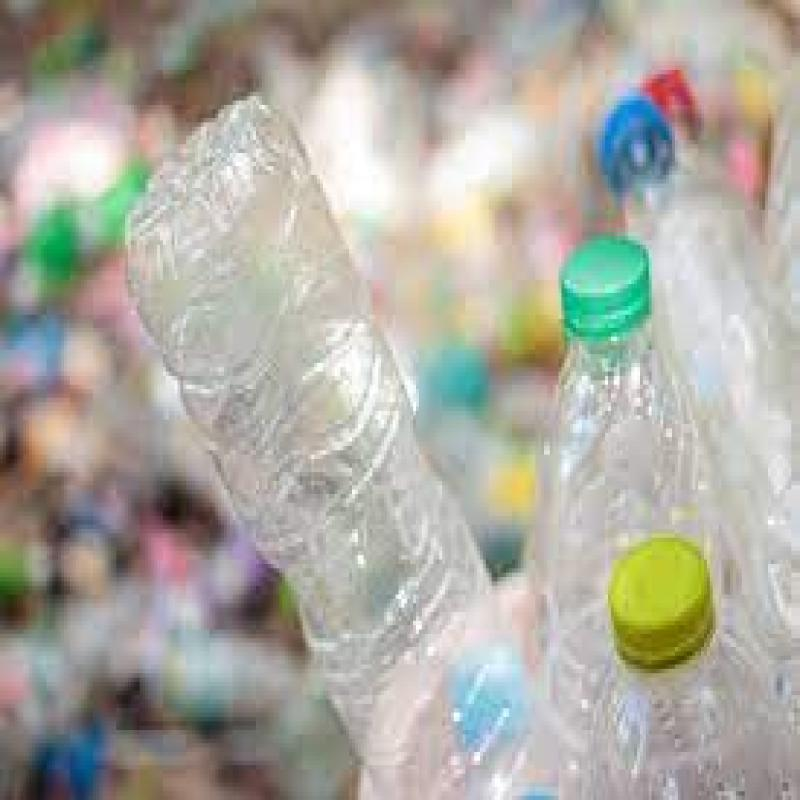botella: (124, 90, 548, 800), (570, 86, 800, 627), (539, 234, 776, 698), (585, 529, 797, 800)
